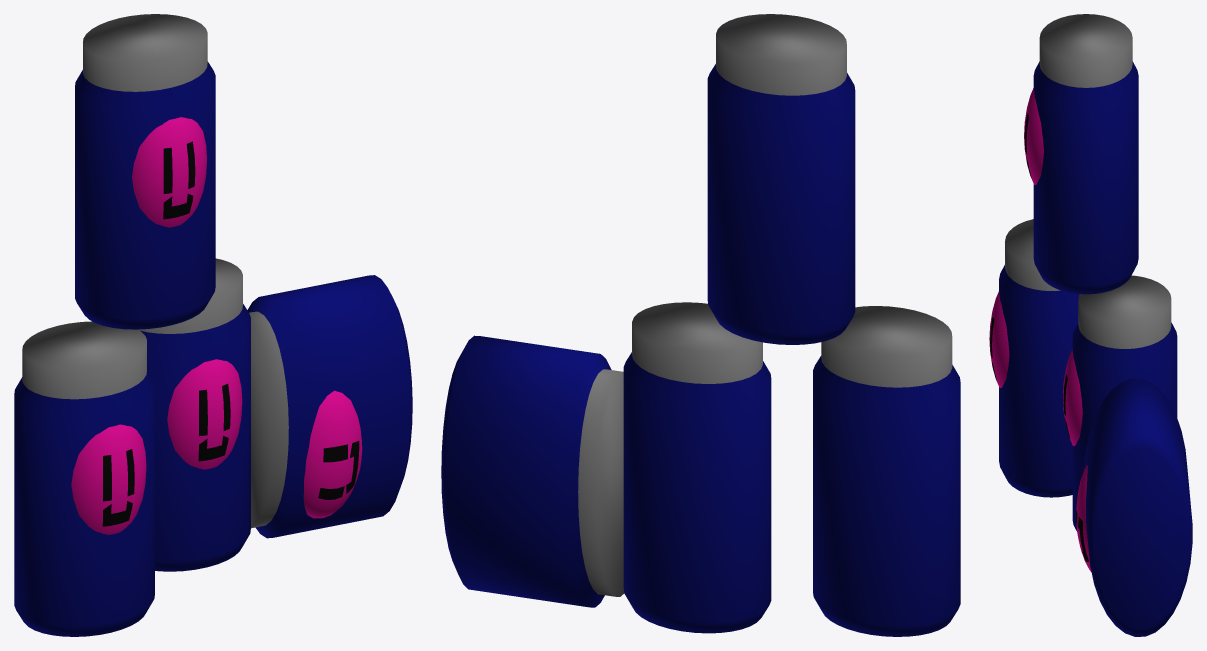
Rendered from Jar.fbx.
3 renders of one model, left to right at view 1: azimuth 30°, elevation 25°; view 2: azimuth 150°, elevation 25°; view 3: azimuth 270°, elevation 25°, orthographic. The views are drawn at different scales.
Parts seen in each view (by area): view 1: Jar; view 2: Jar; view 3: Jar.
Boxes of the visible parts, x1,y1,x2,y2 form: Jar: (14, 14, 412, 636); Jar: (441, 14, 960, 636); Jar: (989, 14, 1192, 636).
Bounding box in the file's own units: 618 × 797 × 300.
